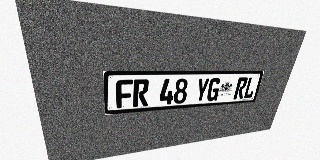4: (159, 79, 175, 105)
8: (173, 78, 189, 104)
F: (116, 79, 133, 108)
G: (206, 78, 222, 101)
L: (243, 77, 258, 99)
R: (133, 79, 149, 107), (233, 77, 248, 99)
Y: (194, 78, 210, 102)
